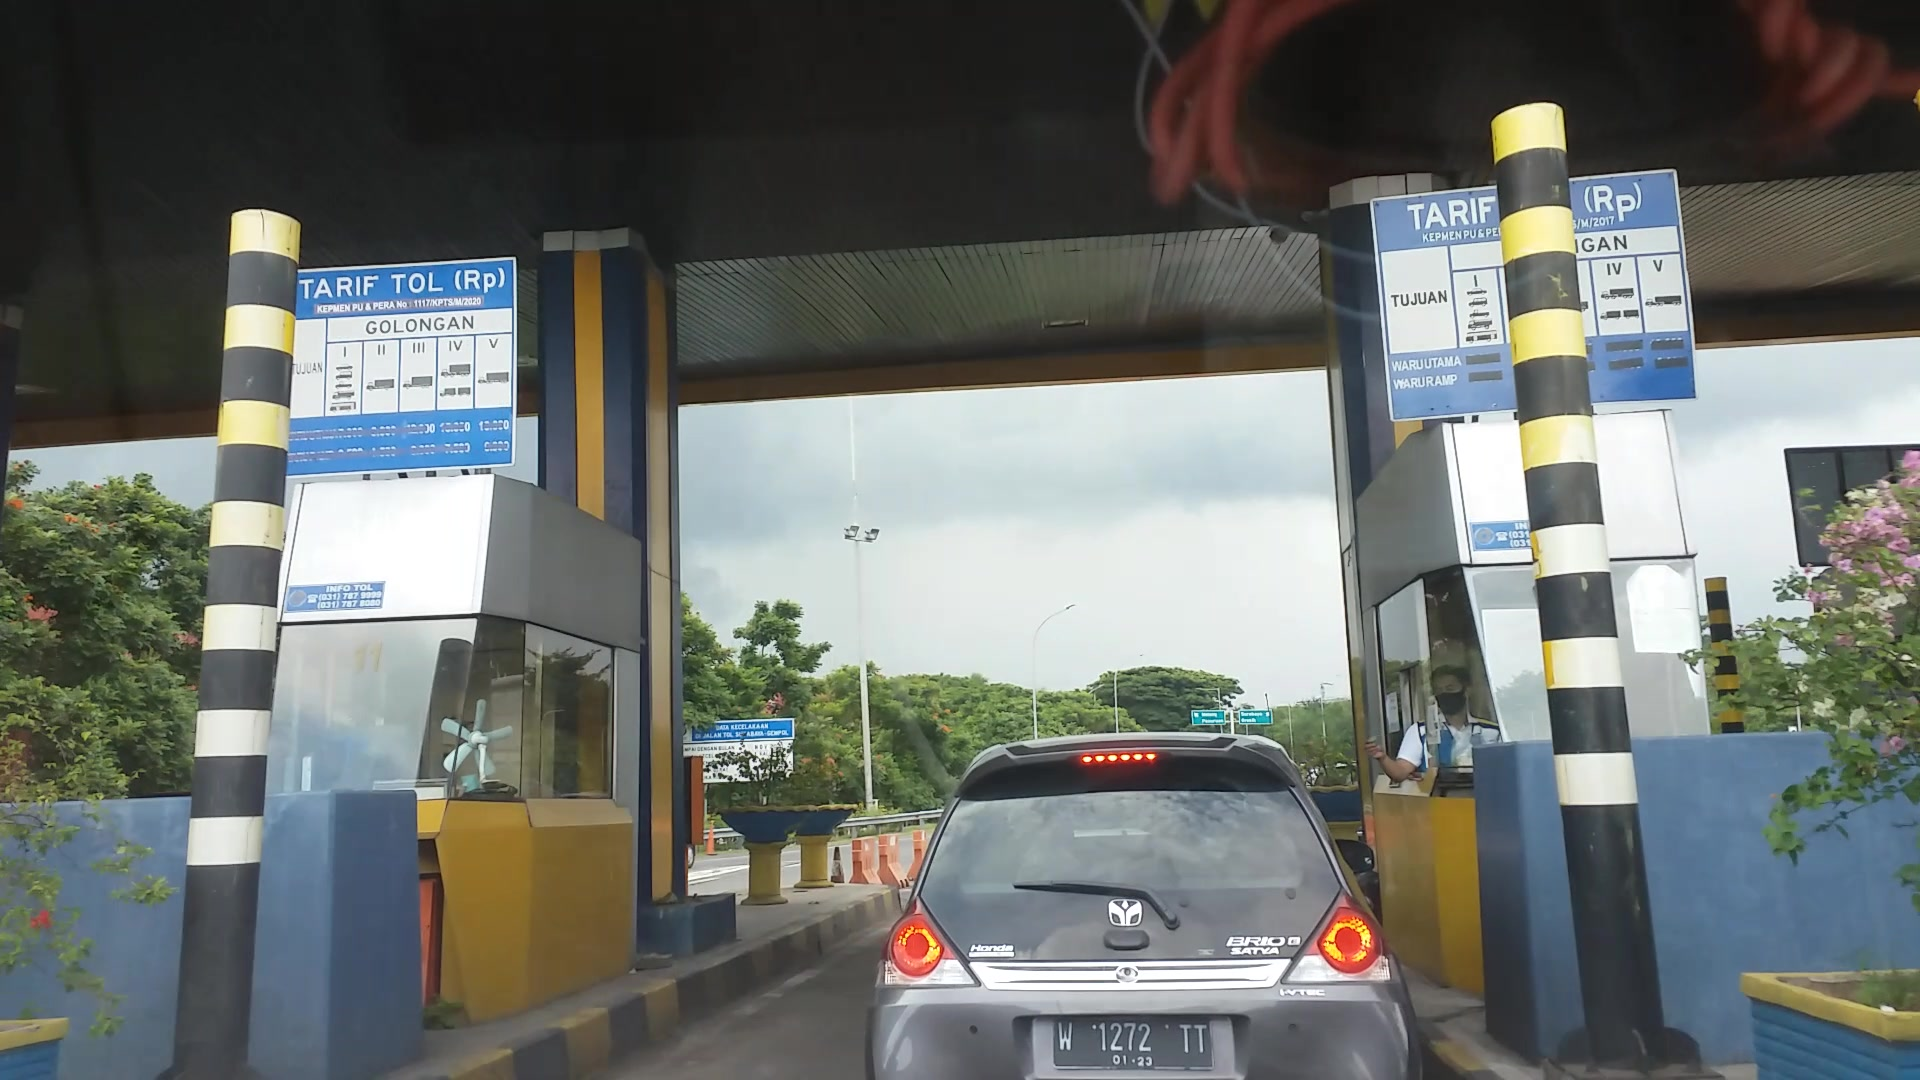plate_positive: (1052, 1015, 1213, 1071)
